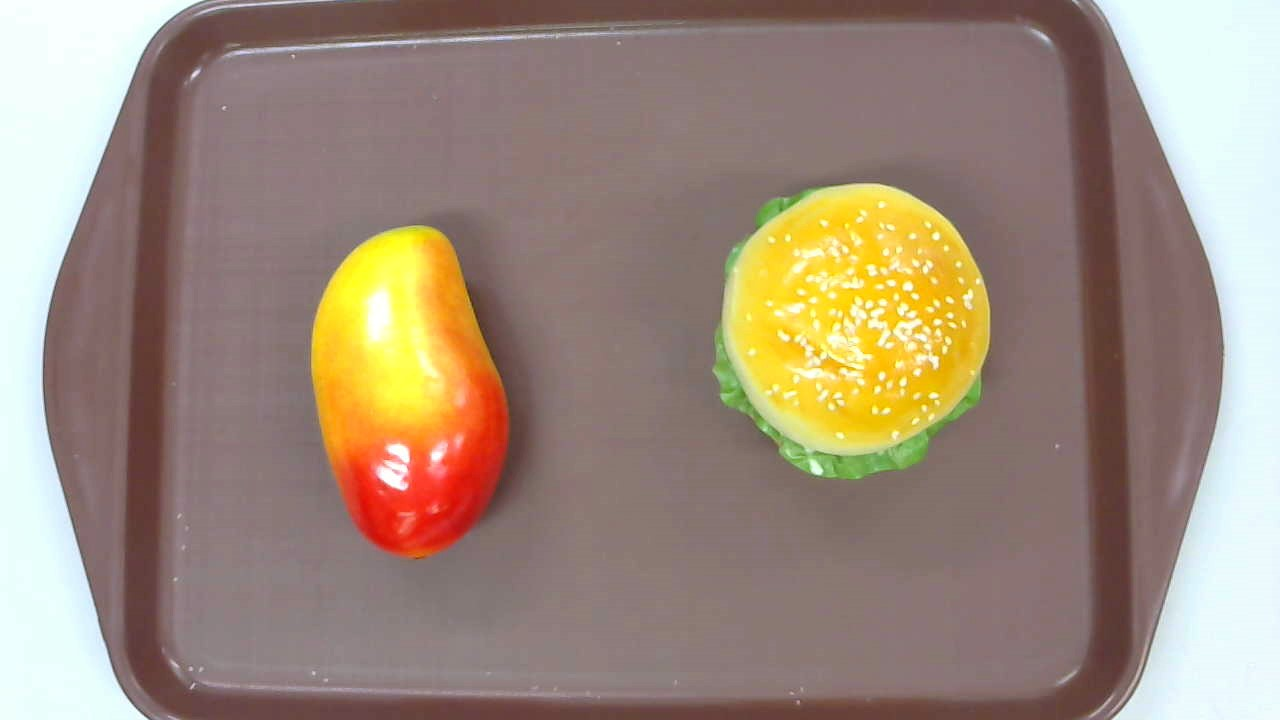hamburger: (711, 182, 991, 478)
red mango: (310, 224, 509, 560)
